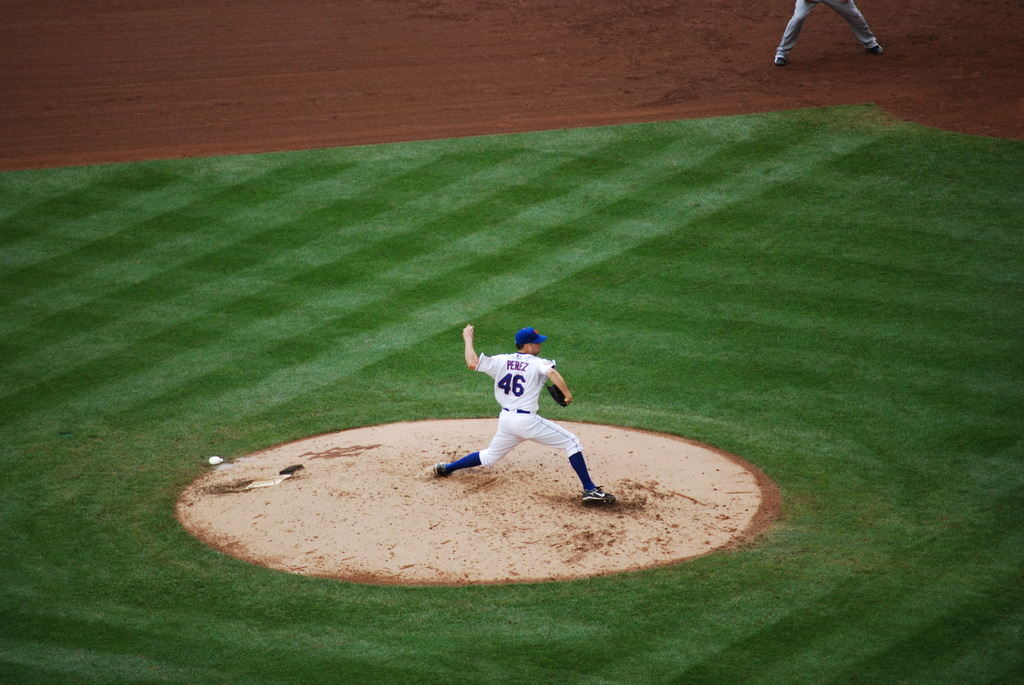person: (415, 319, 643, 510), (768, 0, 891, 68)
